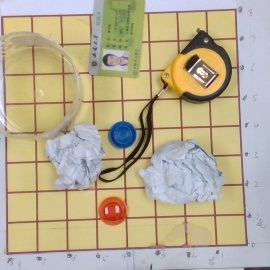card: (88, 1, 145, 80)
